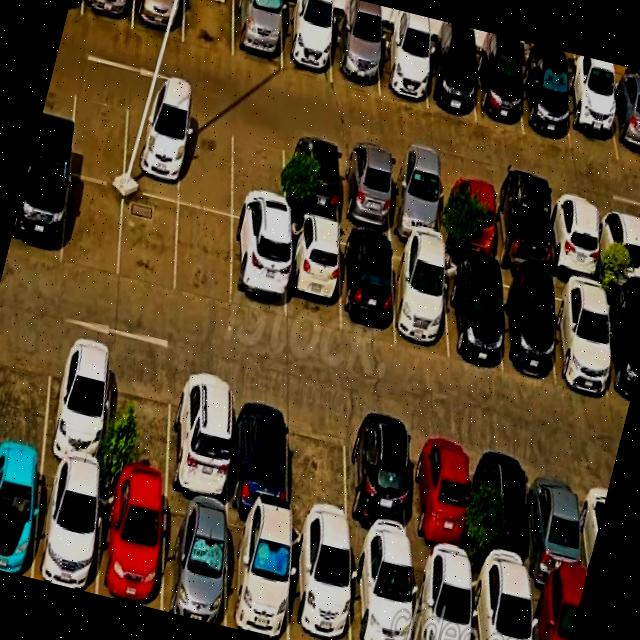empty: (105, 352, 173, 492), (288, 399, 348, 537), (0, 324, 53, 458), (61, 175, 124, 278), (118, 190, 178, 295), (69, 80, 128, 186), (174, 204, 231, 306), (178, 108, 232, 215), (232, 120, 284, 229), (182, 0, 233, 57)
occupied: (42, 335, 112, 475), (32, 462, 101, 594), (168, 368, 232, 507), (97, 479, 164, 610), (347, 413, 410, 552), (161, 494, 226, 626), (225, 510, 289, 640), (228, 383, 289, 519), (410, 426, 466, 567), (530, 454, 584, 591), (479, 441, 530, 579), (289, 525, 350, 640), (551, 278, 610, 396), (443, 258, 502, 372), (494, 270, 554, 380), (123, 94, 184, 202), (7, 160, 69, 265), (392, 243, 448, 358), (340, 230, 395, 342), (350, 542, 412, 640), (286, 218, 339, 331), (230, 219, 284, 320), (492, 182, 548, 276), (0, 453, 42, 578), (411, 554, 471, 640), (440, 170, 494, 261), (285, 134, 339, 225), (388, 157, 441, 245), (563, 74, 617, 160), (339, 146, 391, 235), (549, 194, 599, 282), (471, 568, 531, 640), (521, 60, 570, 148), (604, 290, 640, 406), (474, 49, 523, 134), (281, 1, 332, 82), (424, 41, 475, 121), (377, 29, 427, 108), (597, 205, 640, 292), (331, 18, 378, 93), (233, 0, 281, 70), (530, 580, 583, 640), (607, 84, 640, 166), (132, 0, 184, 42), (81, 0, 133, 29)
